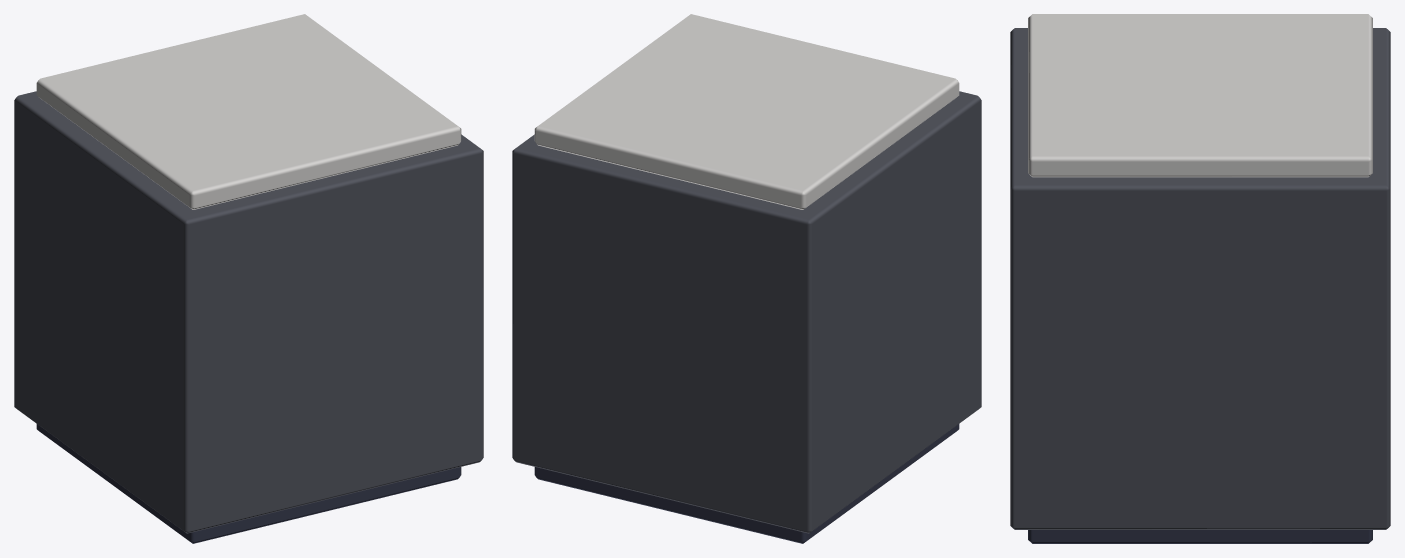
Rendered from hull.square.wing.glb.
3 renders of one model, left to right at view 1: azimuth 30°, elevation 25°; view 2: azimuth 150°, elevation 25°; view 3: azimuth 270°, elevation 25°, orthographic. The views are drawn at different scales.
Visible parts, largest first — view 1: hull.square.wing; view 2: hull.square.wing; view 3: hull.square.wing.
Boxes of the visible parts, x1=… form: hull.square.wing: x1=14, y1=14, x2=483, y2=543; hull.square.wing: x1=512, y1=14, x2=981, y2=543; hull.square.wing: x1=1010, y1=14, x2=1390, y2=543.
Bounding box in the file's own units: 1 × 1.12 × 1.
